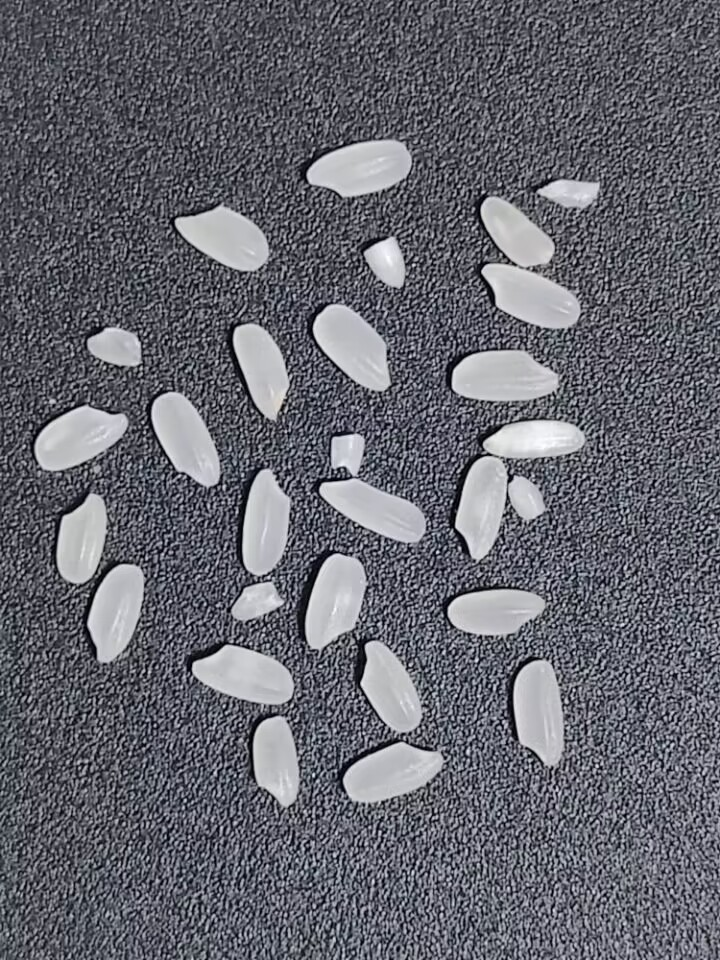broken: (80, 322, 142, 375), (534, 169, 603, 215), (226, 577, 288, 625), (359, 236, 412, 290), (503, 472, 549, 525), (320, 432, 368, 479)
rice: (315, 475, 436, 547), (476, 260, 586, 331), (148, 390, 225, 491), (171, 202, 270, 280), (337, 740, 448, 809), (313, 304, 394, 396), (185, 643, 296, 709), (507, 657, 570, 773), (27, 404, 131, 474), (304, 133, 412, 200), (81, 562, 149, 666), (299, 551, 369, 652), (355, 640, 427, 738), (451, 451, 512, 566), (240, 463, 299, 578), (225, 320, 291, 422), (442, 350, 566, 401), (246, 715, 307, 817), (480, 194, 558, 267), (439, 586, 548, 638), (473, 415, 588, 462), (53, 490, 106, 586)
